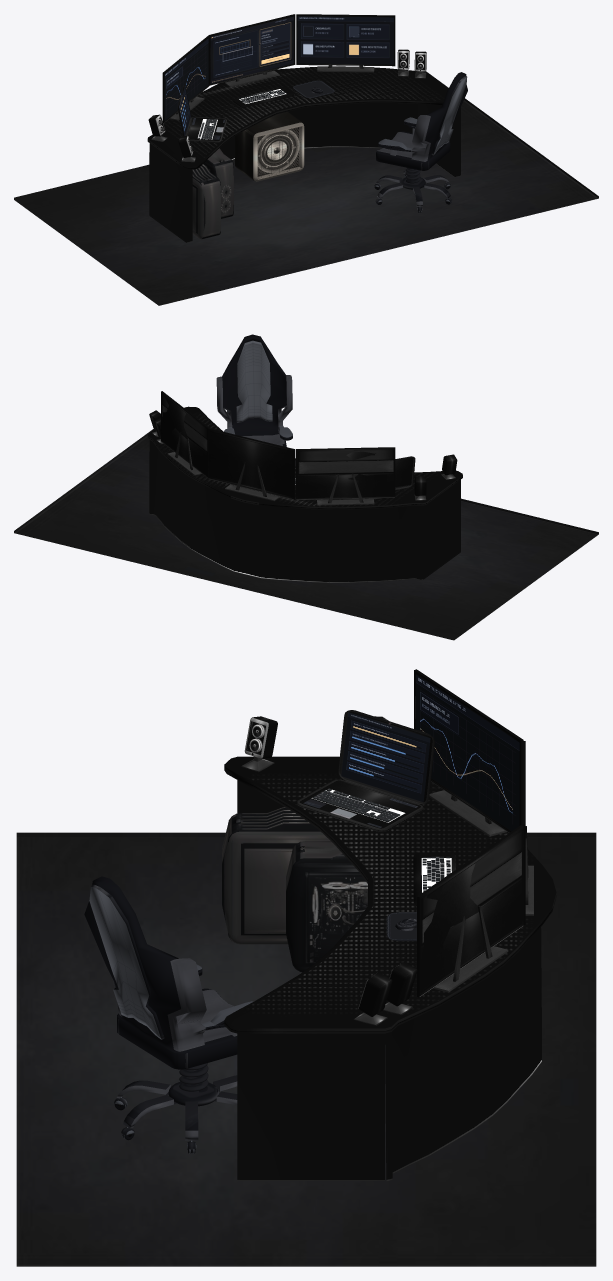
The model's file is computer_and_laptop.glb.
3 views of the same model, one above another, from view 1: azimuth 30°, elevation 25°; view 2: azimuth 150°, elevation 25°; view 3: azimuth 270°, elevation 25° (orthographic). The views are drawn at different scales.
Parts seen in each view (by area): view 1: MAT-0_6, DESK-0_5, CHAIR-0_2, 3PIC-0_10, 2PIC-0_8, BASS-0_11, SCREEN-0_7, 1PIC-0_9, 1COMPUTER-0_4, LAPTOP-0_13, SPEAKER-0_12, COMPUTER-0_3 (+2 smaller); view 2: MAT-0_6, DESK-0_5, SCREEN-0_7, CHAIR-0_2, SPEAKER-0_12, LAPTOP-0_13; view 3: MAT-0_6, DESK-0_5, CHAIR-0_2, SCREEN-0_7, LAPTOP-0_13, 1COMPUTER-0_4, 1PIC-0_9, COMPUTER-0_3, SPEAKER-0_12, 2KB-0_14.
Boxes of the visible parts, bbox=[...] form: MAT-0_6: bbox=[14, 98, 598, 305]; DESK-0_5: bbox=[147, 66, 460, 242]; CHAIR-0_2: bbox=[374, 72, 467, 212]; 3PIC-0_10: bbox=[297, 16, 393, 64]; 2PIC-0_8: bbox=[210, 16, 293, 83]; BASS-0_11: bbox=[235, 112, 304, 181]; SCREEN-0_7: bbox=[162, 14, 395, 123]; 1PIC-0_9: bbox=[164, 38, 208, 120]; 1COMPUTER-0_4: bbox=[192, 164, 220, 239]; LAPTOP-0_13: bbox=[177, 85, 226, 142]; SPEAKER-0_12: bbox=[148, 49, 426, 162]; COMPUTER-0_3: bbox=[203, 148, 233, 218]; MAT-0_6: bbox=[14, 429, 598, 640]; DESK-0_5: bbox=[147, 406, 462, 582]; SCREEN-0_7: bbox=[161, 391, 395, 505]; CHAIR-0_2: bbox=[216, 334, 292, 446]; SPEAKER-0_12: bbox=[149, 410, 457, 500]; LAPTOP-0_13: bbox=[395, 456, 415, 490]; MAT-0_6: bbox=[16, 832, 596, 1266]; DESK-0_5: bbox=[224, 756, 556, 1181]; CHAIR-0_2: bbox=[84, 876, 253, 1153]; SCREEN-0_7: bbox=[414, 669, 533, 997]; LAPTOP-0_13: bbox=[297, 710, 434, 831]; 1COMPUTER-0_4: bbox=[222, 806, 330, 944]; 1PIC-0_9: bbox=[416, 674, 519, 831]; COMPUTER-0_3: bbox=[286, 841, 367, 972]; SPEAKER-0_12: bbox=[241, 716, 417, 1025]; 2KB-0_14: bbox=[413, 852, 455, 906].
Size of the model in its own units: 93.44 by 27.72 by 53.3.
27 materials, 25 textured.
